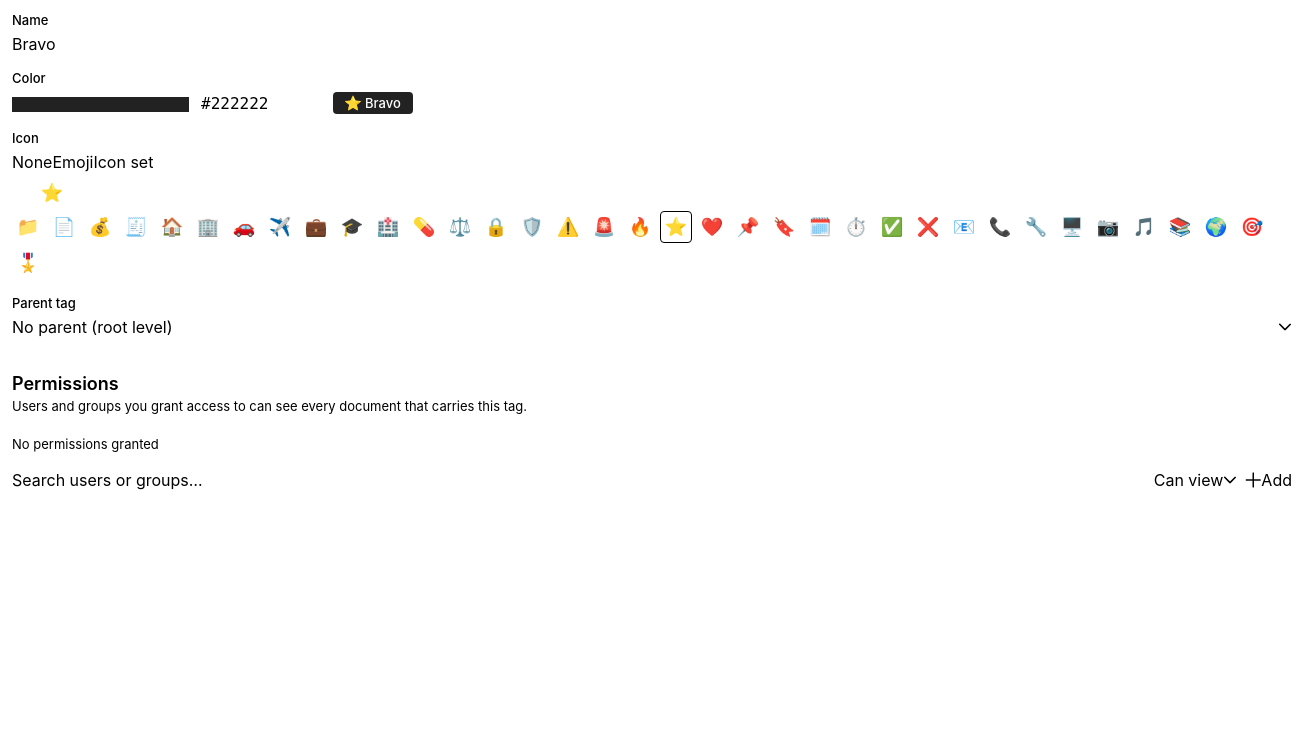
Test case: TagForm — the icon field, in both hosts › reports NOTHING while what is typed is not one emoji, and says so
This screenshot has width=1304, height=732.
Replace the text in the field with id "tag-icon-emoji" with "ab" at (52, 193), box [12,182,92,203]
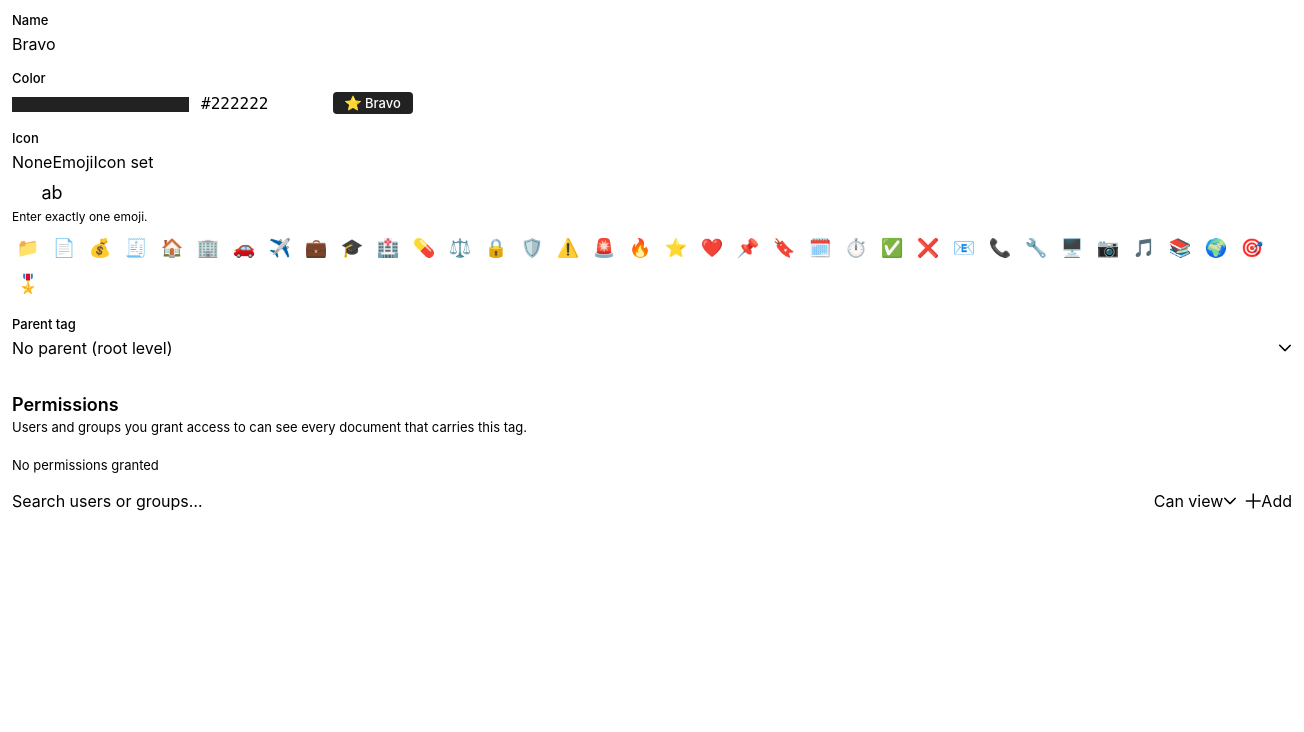
Result: the message "Enter exactly one emoji." is shown at [12,209,148,224]
